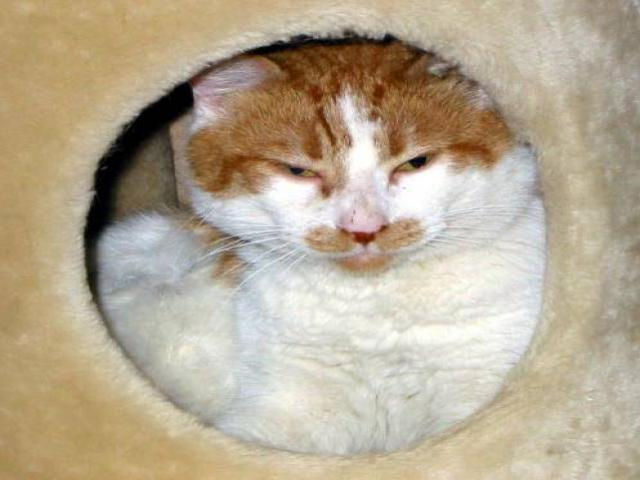cat: (106, 41, 545, 454)
